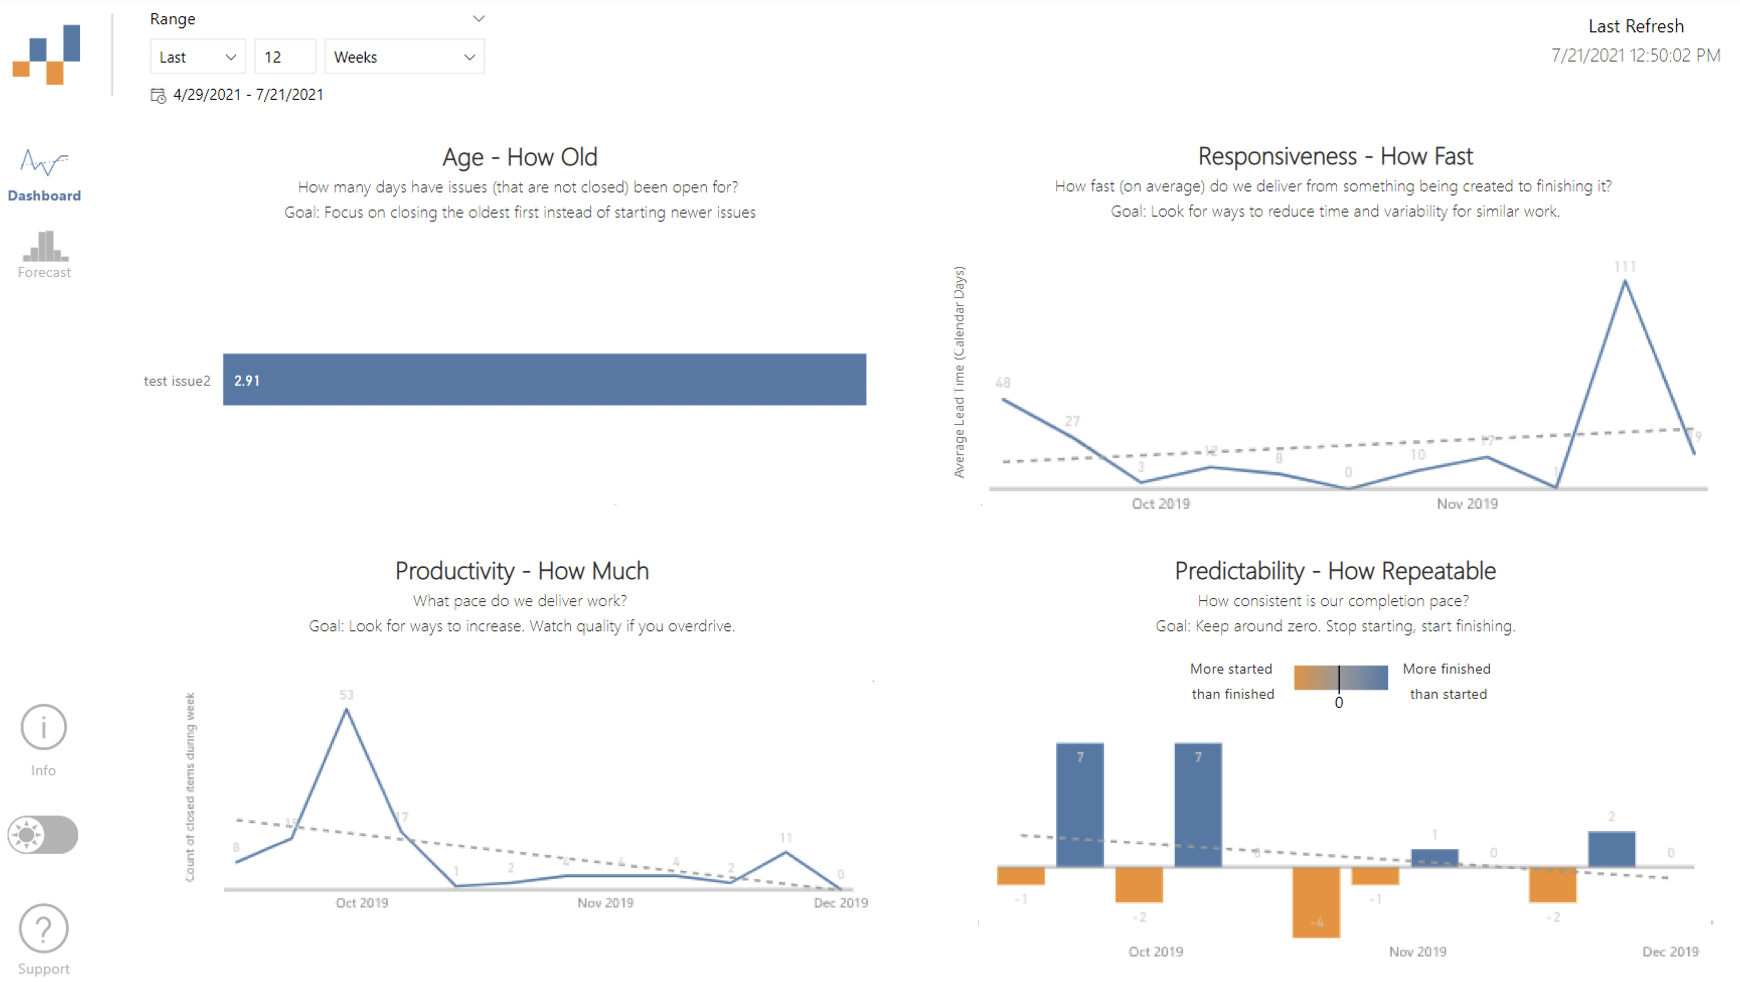

This screenshot's page, from the dashboard's own definition file:
{"tool":"powerbi","page":{"name":"Dashboard","canvas":[1280,720],"ordinal":0},"visuals":[{"type":"group","id":"g1","title":"Plain page","box":[0,0,1279.7,720.3],"z":0},{"type":"image","box":[0,95.7,65.8,45.9],"z":0,"group":"g4"},{"type":"image","box":[9.7,153.1,47.4,47.4],"z":0,"group":"g2"},{"type":"textbox","title":"Predictability - How Repeatable","box":[694.9,399.5,569.3,80.1],"z":0,"group":"g1"},{"type":"clusteredColumnChart","title":"Predictability - How Repeatable","fields":{"Y":["WorkItems In Progress WIP.Net Flow"],"Category":["Dates.WeekStartingDate"]},"box":[694.9,480,569.3,224.4],"z":0,"group":"g3"},{"type":"actionButton","box":[0,95.7,65.8,57.4],"z":1000,"group":"g4"},{"type":"actionButton","box":[0,153.1,65.8,56.2],"z":1000,"group":"g2"},{"type":"textbox","box":[1017.3,473.6,88.8,47.9],"z":1000,"group":"g3"},{"type":"image","box":[0,575.1,63.6,72.4],"z":1000,"group":"g1"},{"type":"basicShape","box":[65.8,0,32.3,80.1],"z":2000,"group":"g1"},{"type":"textbox","box":[860.5,473.6,88.8,47.9],"z":2000,"group":"g3"},{"type":"textbox","title":"Quality - How Well","box":[98.1,95.7,571.7,80.1],"z":3000,"group":"g1"},{"type":"textbox","title":"Responsiveness - How Fast","box":[694.9,95.7,569.3,80.1],"z":4000,"group":"g1"},{"type":"textbox","title":"Productivity - How Much","box":[98.1,399.5,571.7,80.1],"z":5000,"group":"g1"},{"type":"lineChart","title":"Productivity - How Much","fields":{"Category":["Dates.WeekStartingDate"],"Y":["WorkItems Completed.CompletedItems2"]},"box":[98.1,480.8,571.7,222.5],"z":6000,"group":"g1"},{"type":"clusteredBarChart","title":"Quality - How Well","fields":{"Y":["Sum(WorkItems In Progress.DaysSinceCreated)"],"Category":["WorkItems In Progress.Title"]},"box":[98.1,175.8,571.7,208.1],"z":7000,"group":"g1"},{"type":"lineChart","title":"Responsiveness - How Fast","fields":{"Category":["Dates.WeekStartingDate"],"Y":["Avg(WorkItems Completed.CycleTimeDays)"]},"box":[694.9,175.8,569.3,208.1],"z":8000,"group":"g1"},{"type":"image","box":[1.2,0,65.8,80.1],"z":9000,"group":"g1"},{"type":"group","id":"g2","title":"Group 2","box":[0,153.1,65.8,56.2],"z":10000,"group":"g1"},{"type":"card","title":"Last Refresh","fields":{"Values":["Min(Data Refresh.DateTime)"]},"box":[1119.3,9.4,160.3,48.7],"z":11000,"group":"g1"},{"type":"slicer","fields":{"Values":["Dates.WeekStartingDate"]},"box":[98.1,0,271.5,80.1],"z":12000,"group":"g1"},{"type":"group","id":"g3","title":"Group 6","box":[694.9,473.6,569.3,230.8],"z":14000,"group":"g1"},{"type":"group","id":"g4","title":"Group 1","box":[0,95.7,65.8,57.4],"z":16000,"group":"g1"},{"type":"actionButton","title":"Button","box":[0,648.1,65.2,72.1],"z":19000,"group":"g1"},{"type":"actionButton","title":"Info","box":[1.2,501.6,61.8,72.9],"z":22000,"group":"g1"}]}

Visuals, with their boxes on the page's 1280x720 design canvas (x1, y1, x2, y2). These are canvas units, not pixel positions in the 1740x982 screenshot, which may show the page scaled, cropped or inside an application window:
"Plain page" group: (0,0,1280,720)
image: (0,96,66,142)
image: (10,153,57,200)
"Predictability - How Repeatable" textbox: (695,400,1264,480)
"Predictability - How Repeatable" clusteredColumnChart: (695,480,1264,704)
actionButton: (0,96,66,153)
actionButton: (0,153,66,209)
textbox: (1017,474,1106,522)
image: (0,575,64,648)
basicShape: (66,0,98,80)
textbox: (860,474,949,522)
"Quality - How Well" textbox: (98,96,670,176)
"Responsiveness - How Fast" textbox: (695,96,1264,176)
"Productivity - How Much" textbox: (98,400,670,480)
"Productivity - How Much" lineChart: (98,481,670,703)
"Quality - How Well" clusteredBarChart: (98,176,670,384)
"Responsiveness - How Fast" lineChart: (695,176,1264,384)
image: (1,0,67,80)
"Group 2" group: (0,153,66,209)
"Last Refresh" card: (1119,9,1280,58)
slicer - Dates.WeekStartingDate: (98,0,370,80)
"Group 6" group: (695,474,1264,704)
"Group 1" group: (0,96,66,153)
"Button" actionButton: (0,648,65,720)
"Info" actionButton: (1,502,63,574)
